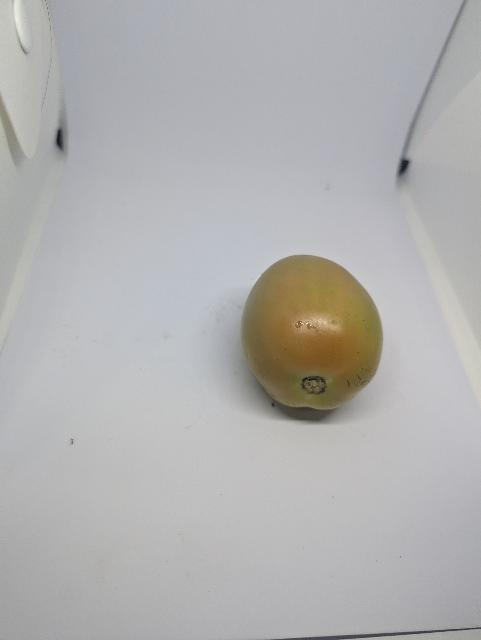breaker: (233, 248, 391, 428)
